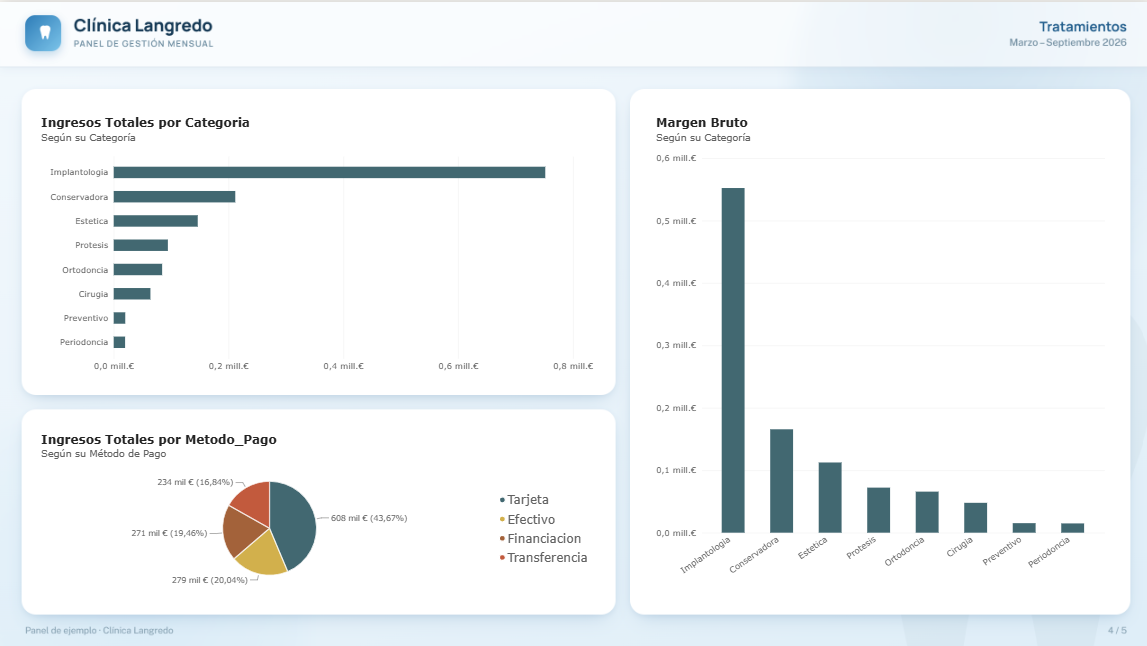

What the dashboard file says about the page in this screenshot:
{"tool":"powerbi","page":{"name":"Tratamientos","canvas":[1920,1080],"ordinal":3},"visuals":[{"type":"barChart","fields":{"Category":["tratamientos.Categoria"],"Y":["_Medidas.Ingresos Totales"]},"box":[52.5,175,952.5,460],"z":0},{"type":"pieChart","fields":{"Category":["facturacion.Metodo_Pago"],"Y":["_Medidas.Ingresos Totales"]},"box":[52.5,702.5,952.5,290],"z":1000},{"type":"columnChart","title":"Margen Bruto ","fields":{"Category":["tratamientos.Categoria"],"Y":["_Medidas.Margen Bruto"]},"box":[1077.5,175,780,817.5],"z":2000}]}

Visuals, with their boxes in screenshot pixels (x1, y1, x2, y2), scaled from the page's 1920x1080 canvas onto the 1147x646 screenshot:
barChart - tratamientos.Categoria x _Medidas.Ingresos Totales: left=31, top=105, right=600, bottom=380
pieChart - facturacion.Metodo_Pago x _Medidas.Ingresos Totales: left=31, top=420, right=600, bottom=594
"Margen Bruto " columnChart: left=644, top=105, right=1110, bottom=594
